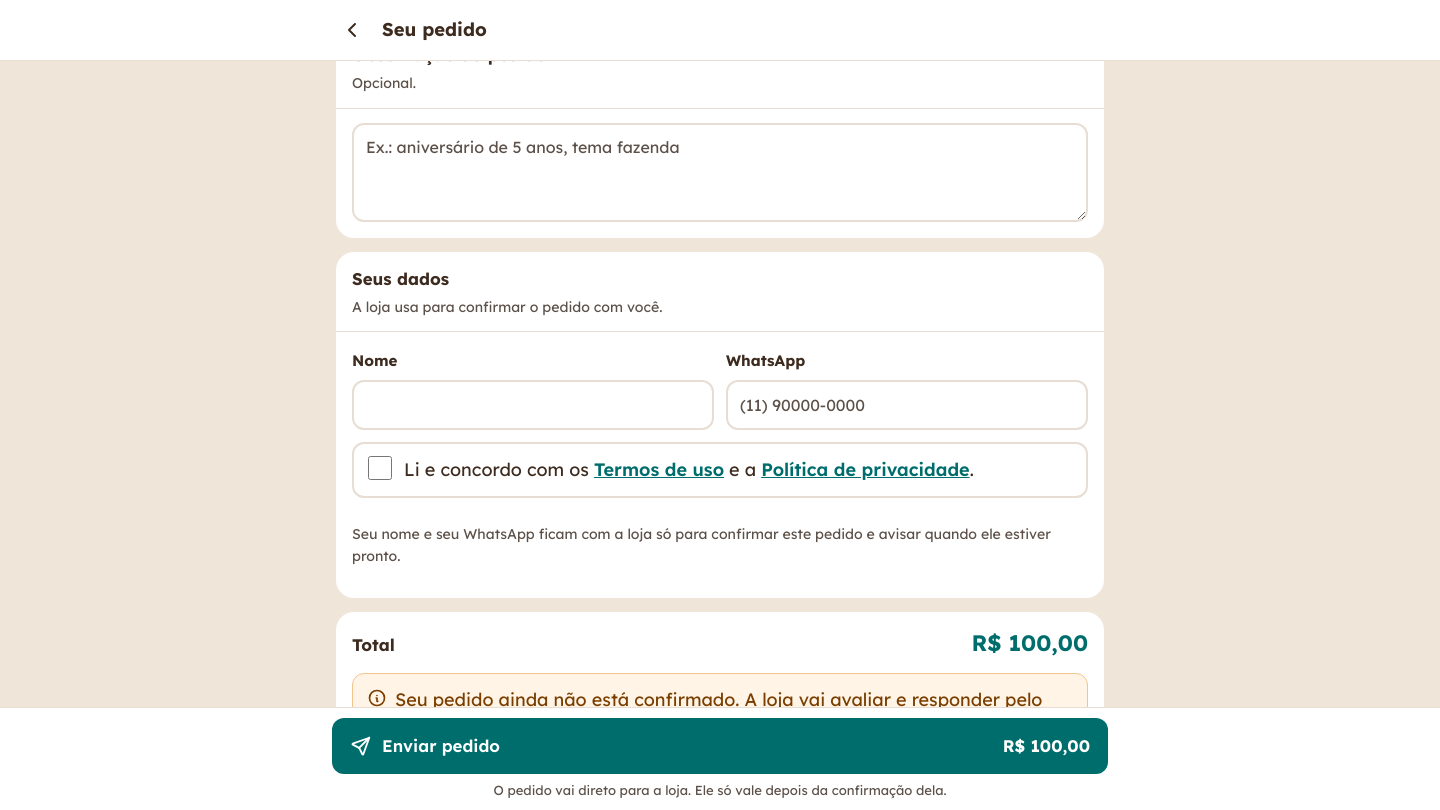
Test: montagem do pedido no cardápio público (ZAP-107) › com os termos no backend, só a caixa vazia já impede o envio; marcada, a versão vai junto (ZAP-149, RN16)
(page scrolled)
Step 1. Type "Ana Souza" into the field labelled "Nome" → (533, 405), box x1=352 y1=380 x2=714 y2=430
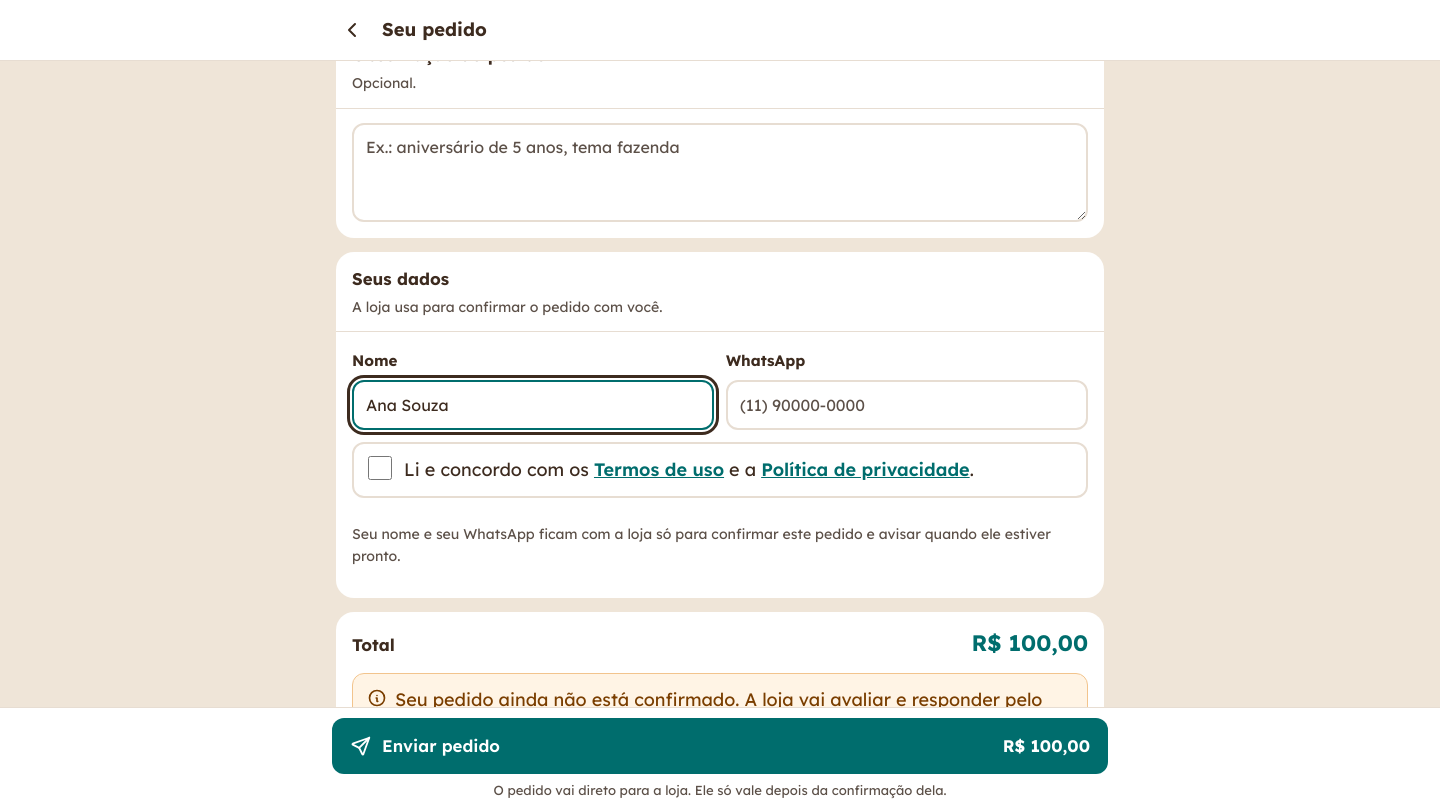
Step 2. Type "11987654321" into the field labelled "WhatsApp" → (907, 405), box x1=726 y1=380 x2=1088 y2=430
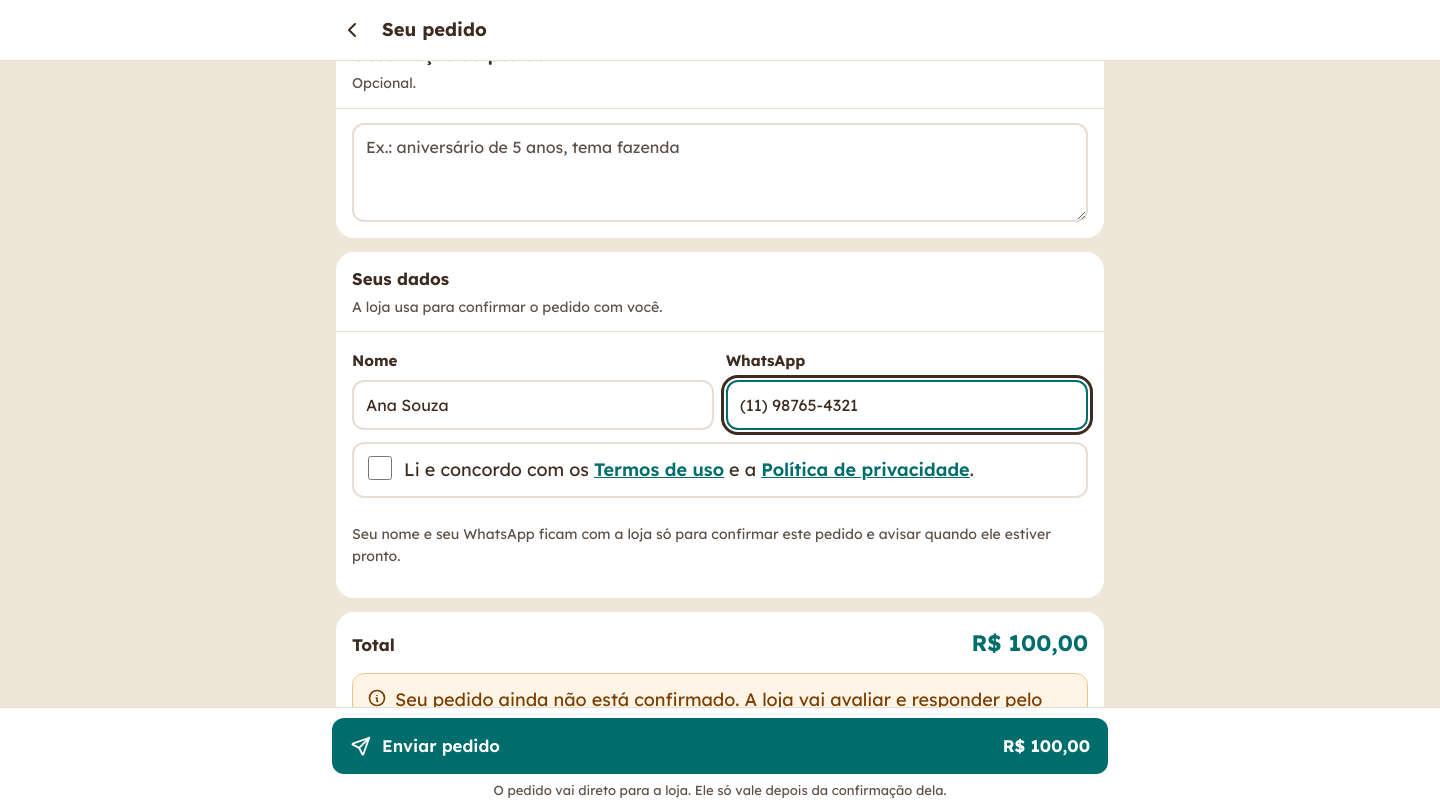
Step 3. Click the button "Enviar pedido R$ 100,00" → (441, 745), box x1=332 y1=718 x2=1108 y2=774
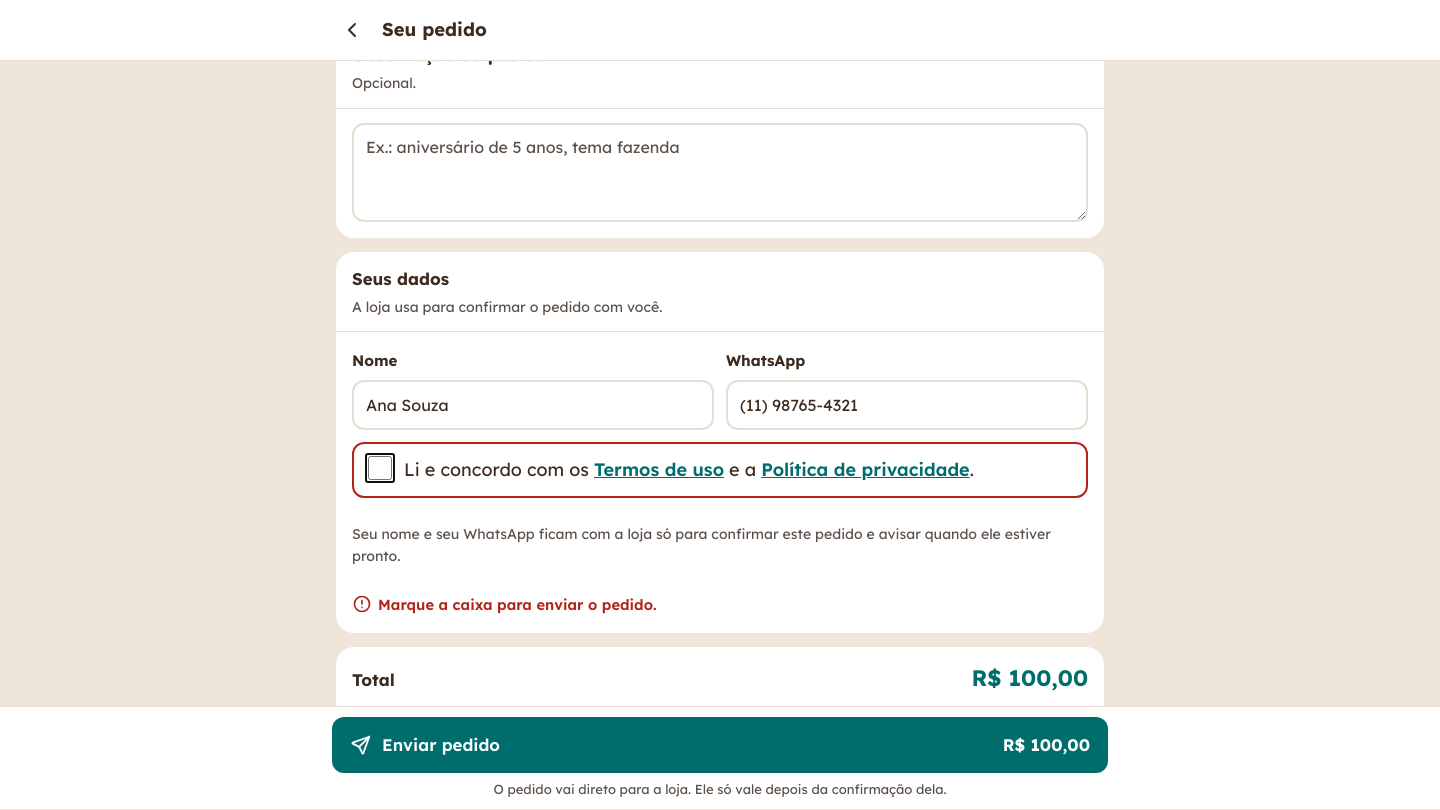
expect the text "Marque a caixa para enviar o pedido." is shown: met, box x1=352 y1=594 x2=657 y2=614
Step 4. Click the checkbox labelled "Li e concordo com os Termos de uso e a Política de privacidade" → (380, 468), box x1=368 y1=456 x2=392 y2=480
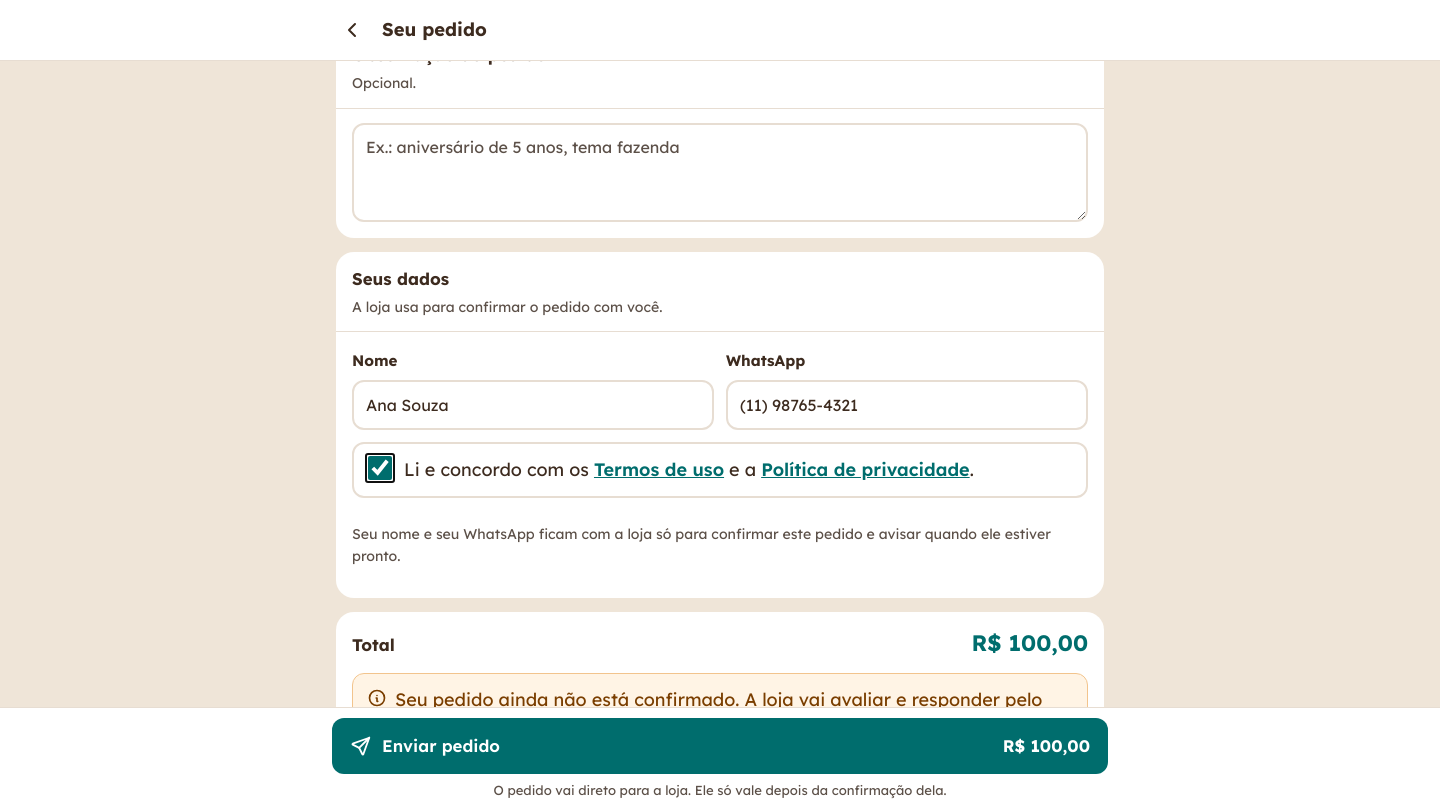
Step 5. Click the button "Enviar pedido R$ 100,00" → (441, 745), box x1=332 y1=718 x2=1108 y2=774
(page scrolled)
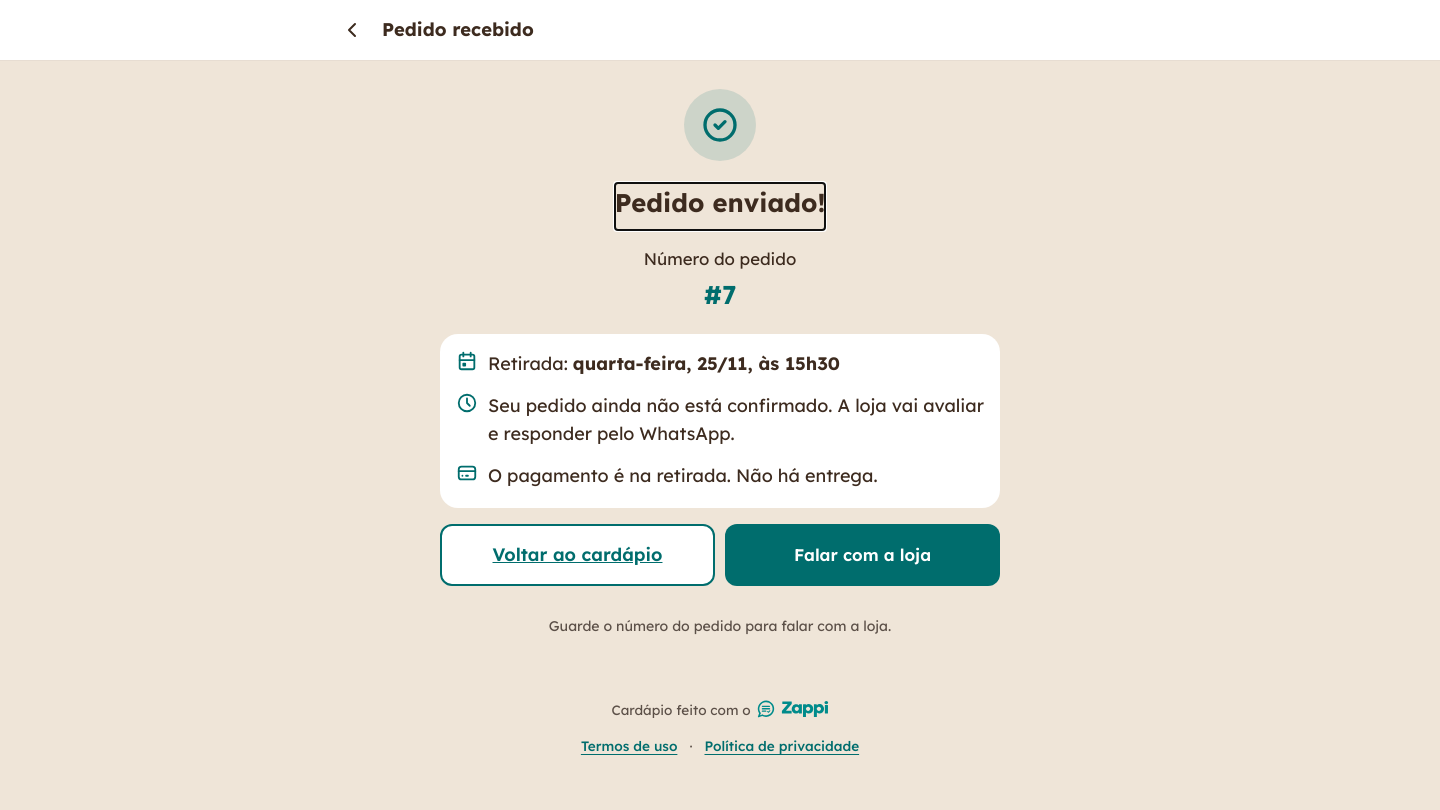
expect the heading "Pedido enviado!" is shown: met, box x1=615 y1=183 x2=825 y2=230
